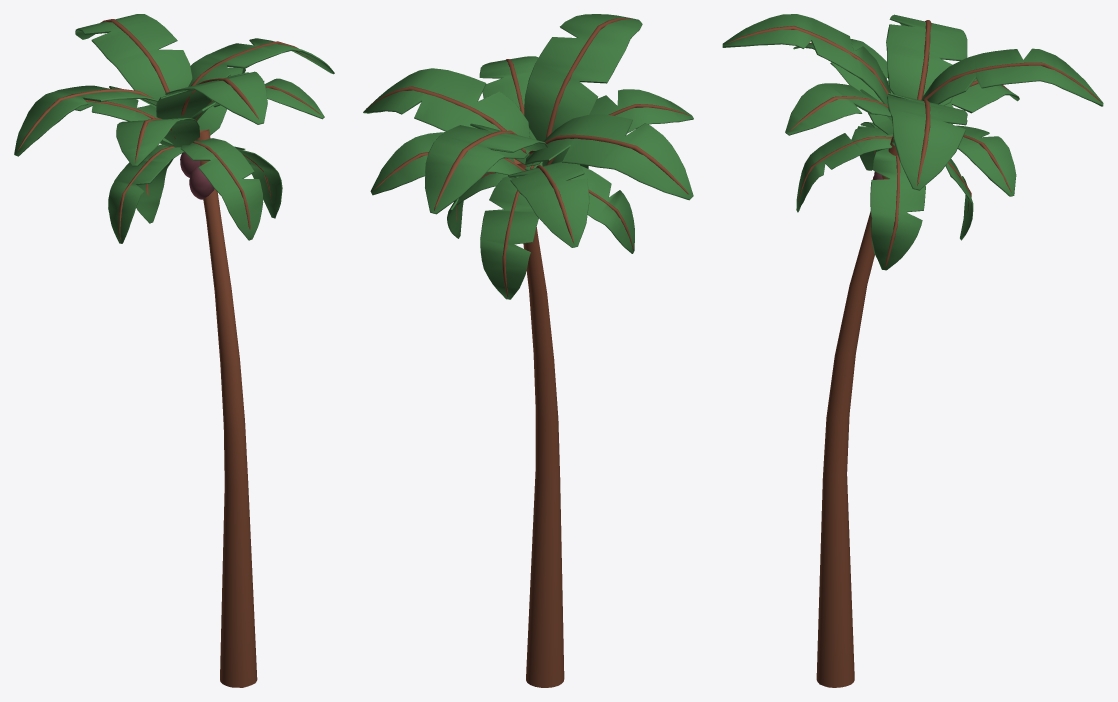
File: Tree.FBX
3 renders of one model, left to right at view 1: azimuth 30°, elevation 25°; view 2: azimuth 150°, elevation 25°; view 3: azimuth 270°, elevation 25°, orthographic. The views are drawn at different scales.
Parts seen in each view (by area): view 1: Tree; view 2: Tree; view 3: Tree.
Part boxes in pixels (<box>): Tree: <box>14,14,334,687</box>; Tree: <box>363,14,693,687</box>; Tree: <box>722,14,1103,687</box>.
Bounding box in the file's own units: 108 × 204 × 110.
